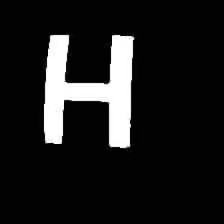LTR_H: (33, 23, 141, 153)
